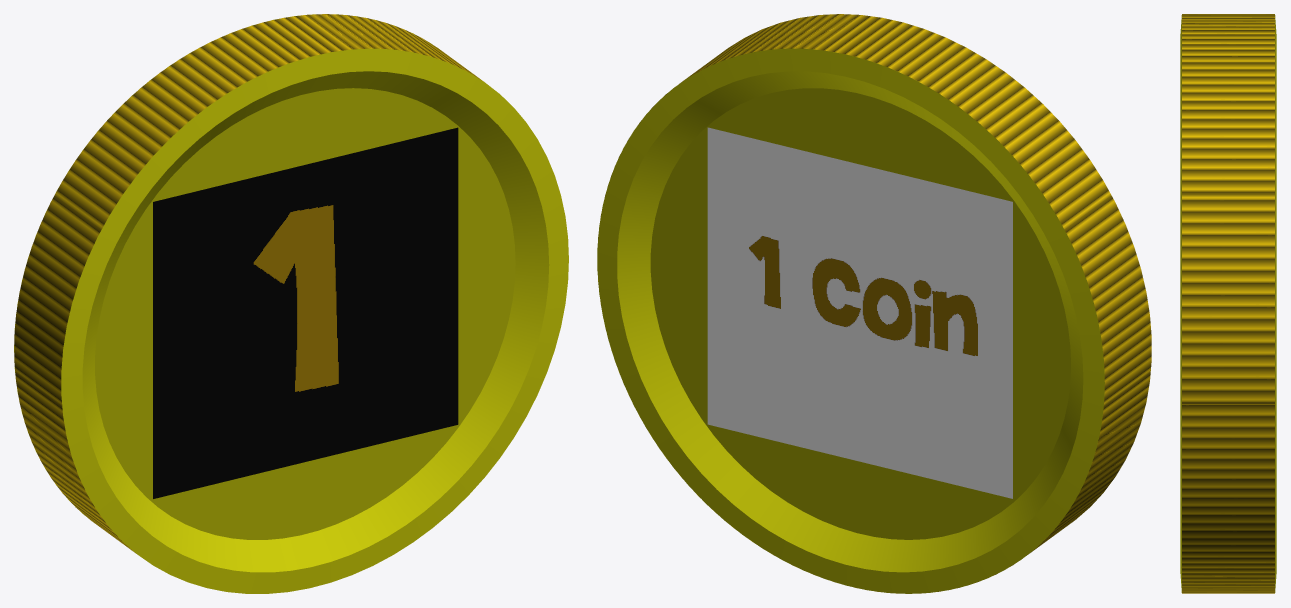
Rendered from Coin 1-1.fbx.
3 views of the same model, side by side, from view 1: azimuth 30°, elevation 25°; view 2: azimuth 150°, elevation 25°; view 3: azimuth 270°, elevation 25° (orthographic).
Parts seen in each view (by area): view 1: polySurface4; view 2: polySurface4; view 3: polySurface4.
Boxes of the visible parts, x1,y1,x2,y2 form: polySurface4: (14, 14, 568, 593); polySurface4: (597, 14, 1151, 593); polySurface4: (1180, 14, 1276, 593).
Bounding box in the file's own units: 5.33 × 5.32 × 0.8862.
